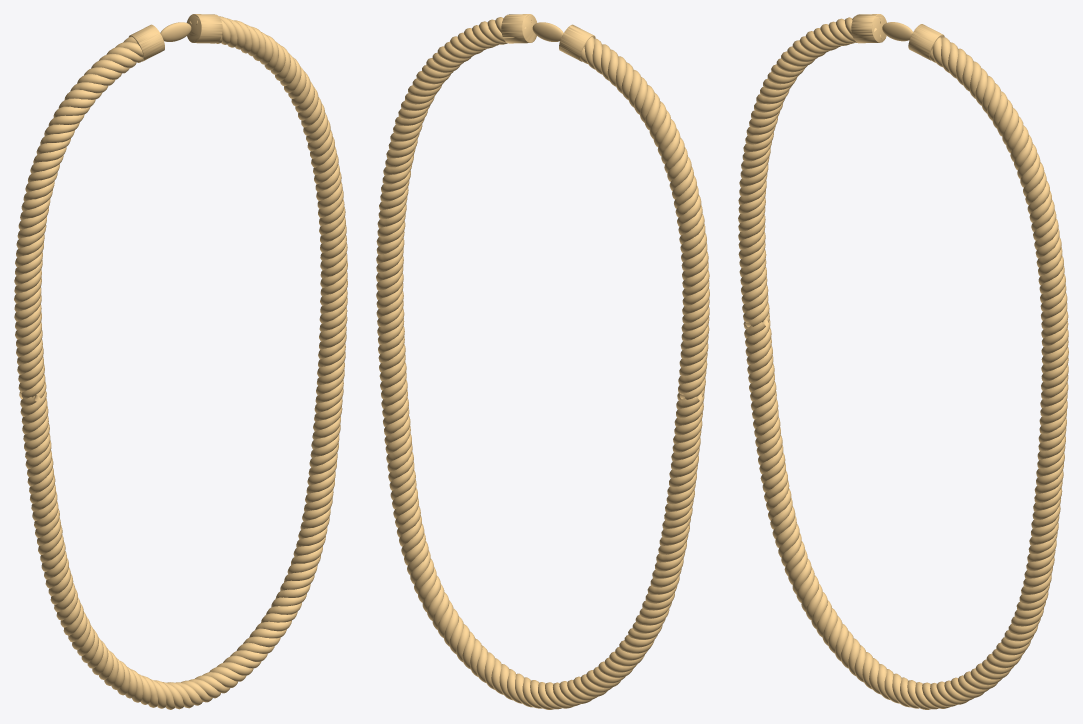
The model's file is chain-53-efa00535.2026-10-07.glb.
3 views of the same model, side by side, from view 1: azimuth 30°, elevation 25°; view 2: azimuth 150°, elevation 25°; view 3: azimuth 330°, elevation 25° (orthographic).
Visible parts, largest first — view 1: chain, cap; view 2: chain, cap; view 3: chain, cap.
Boxes of the visible parts, x1=… form: chain: x1=14, y1=16, x2=347, y2=709; cap: x1=128, y1=14, x2=222, y2=61; chain: x1=376, y1=17, x2=709, y2=709; cap: x1=501, y1=14, x2=595, y2=61; chain: x1=738, y1=16, x2=1068, y2=709; cap: x1=851, y1=14, x2=944, y2=60.
Size of the model in its own units: 0.0785 by 0.1566 by 0.00599.
